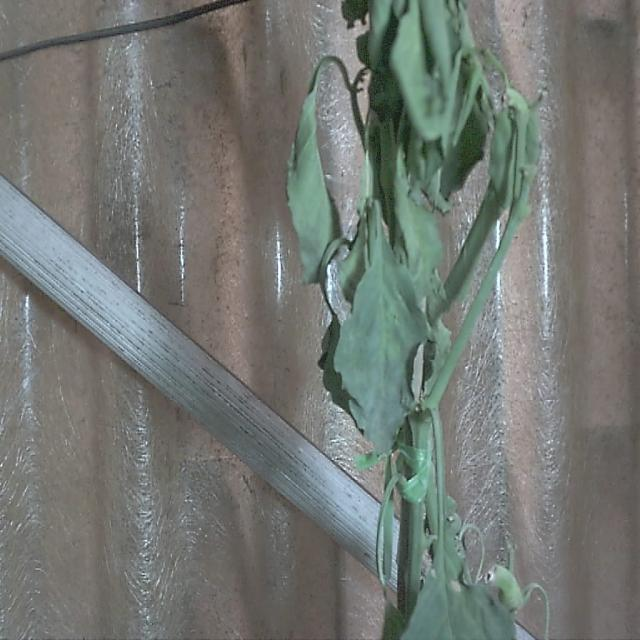Leaf: (334, 242, 426, 464), (286, 86, 344, 286)
